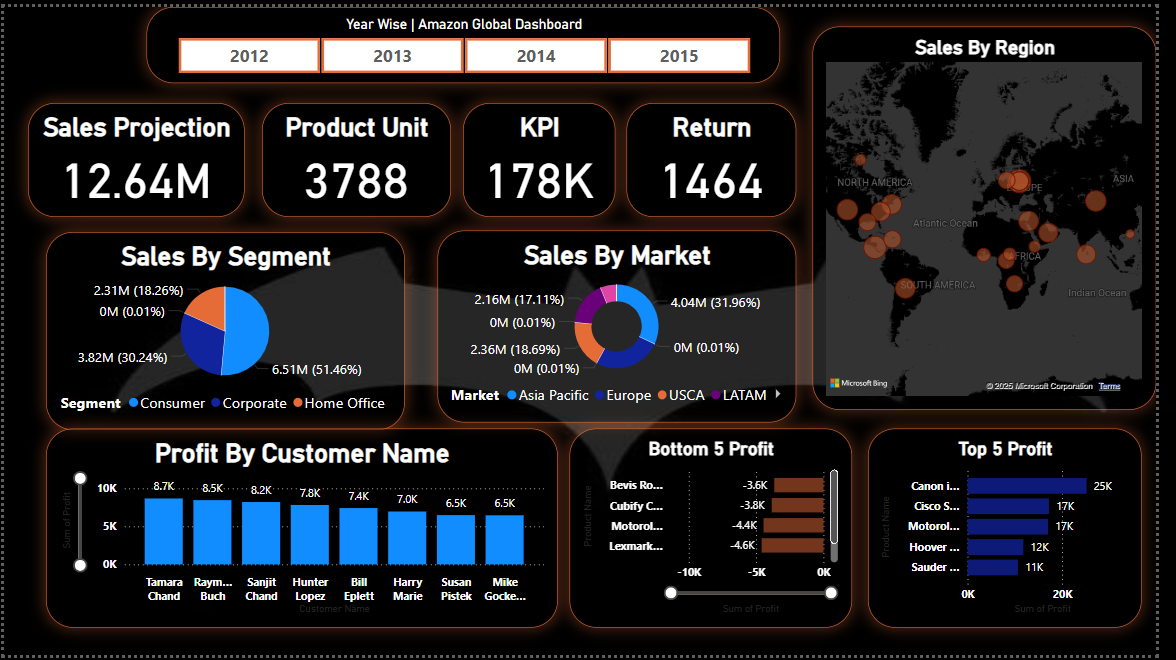

This screenshot's page, from the dashboard's own definition file:
{"tool":"powerbi","page":{"name":"Report","canvas":[1280,720],"ordinal":1},"visuals":[{"type":"slicer","title":"Year Wise | Amazon Global Dashboard","fields":{"Values":["Orders.Year"]},"box":[175.7,11.4,704.3,84.6],"z":0},{"type":"card","title":"Sales Projection","fields":{"Values":["Orders.Sales"]},"box":[26,107.4,240.7,126.9],"z":1000},{"type":"card","title":"Product Unit","fields":{"Values":["Orders.Product Name"]},"box":[286.3,107.4,209.8,126.9],"z":2000},{"type":"card","title":"KPI ","fields":{"Values":["Orders.Quantity"]},"box":[510.7,107.4,169.2,126.9],"z":3000},{"type":"pieChart","title":"Sales By Segment","fields":{"Y":["Orders.Sales","Orders.Ship Date"],"Category":["Orders.Segment"]},"box":[47.2,245.6,398.5,219.6],"z":4000},{"type":"card","title":"Return","fields":{"Values":["Orders.Ship Date"]},"box":[691.3,107.4,188.7,126.9],"z":5000},{"type":"donutChart","title":"Sales By Market","fields":{"Y":["Orders.Sales","Orders.Ship Date"],"Category":["Orders.Market"]},"box":[481.5,248.9,398.5,213.1],"z":6000},{"type":"columnChart","title":"Profit By Customer Name","fields":{"Category":["Orders.Customer Name"],"Y":["Orders.Profit"]},"box":[26,468.4,569.3,221.2],"z":7000},{"type":"clusteredBarChart","title":"Top 5  Profit","fields":{"Category":["Orders.Product Name"],"Y":["Orders.Profit"]},"box":[959.7,468.4,304.2,221.2],"z":8000},{"type":"clusteredBarChart","title":"Bottom 5 Profit","fields":{"Category":["Orders.Product Name"],"Y":["Orders.Profit"]},"box":[627.8,468.4,313.9,221.2],"z":9000},{"type":"map","title":"Sales By Region","fields":{"Size":["Orders.Ship Date"],"Category":["Orders.Region"]},"box":[897.9,21.1,382.2,426.2],"z":9001}]}

Visuals, with their boxes in screenshot pixels (x1, y1, x2, y2), scaled from the page's 1280x720 canvas onto the 1176x660 screenshot:
"Year Wise | Amazon Global Dashboard" slicer: <region>161, 10, 808, 88</region>
"Sales Projection" card: <region>24, 98, 245, 215</region>
"Product Unit" card: <region>263, 98, 456, 215</region>
"KPI " card: <region>469, 98, 625, 215</region>
"Sales By Segment" pieChart: <region>43, 225, 409, 426</region>
"Return" card: <region>635, 98, 808, 215</region>
"Sales By Market" donutChart: <region>442, 228, 808, 424</region>
"Profit By Customer Name" columnChart: <region>24, 429, 547, 632</region>
"Top 5  Profit" clusteredBarChart: <region>882, 429, 1161, 632</region>
"Bottom 5 Profit" clusteredBarChart: <region>577, 429, 865, 632</region>
"Sales By Region" map: <region>825, 19, 1175, 410</region>
